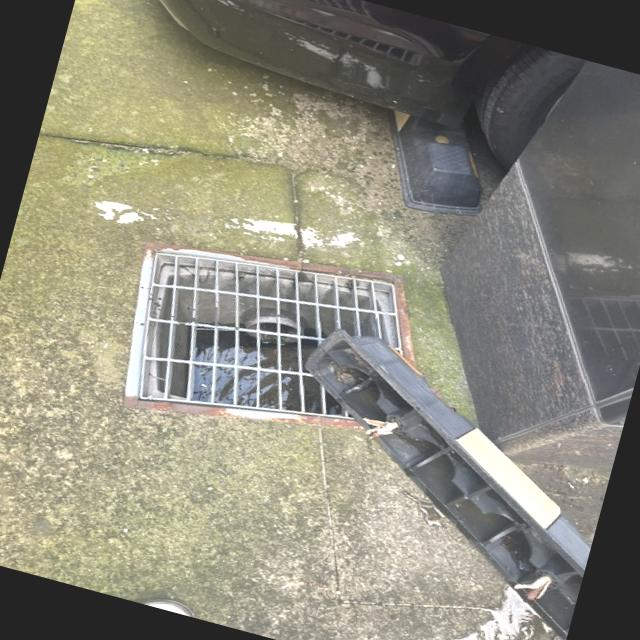drain_area: (140, 251, 404, 419)
drain_full: (138, 251, 411, 424)
